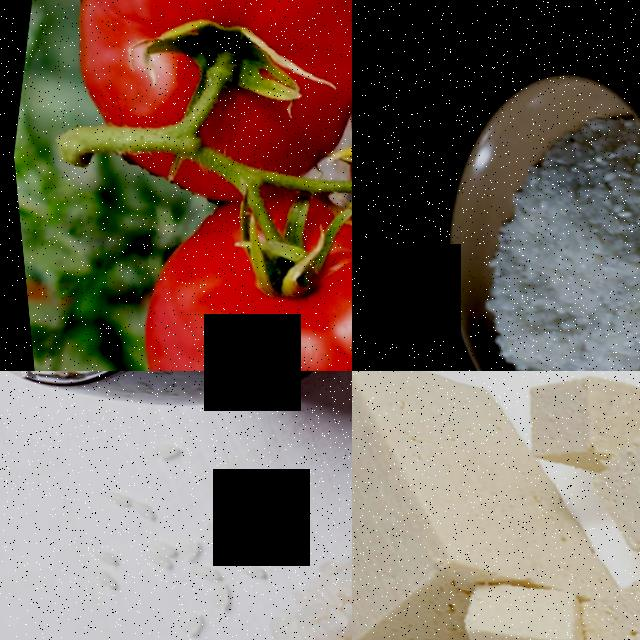tofu: (352, 371, 470, 640), (504, 371, 630, 474), (440, 569, 613, 640), (571, 417, 640, 582), (558, 564, 640, 640)
tomato: (40, 0, 352, 181), (91, 160, 352, 371)
white rice: (437, 87, 640, 371), (247, 539, 352, 640)
